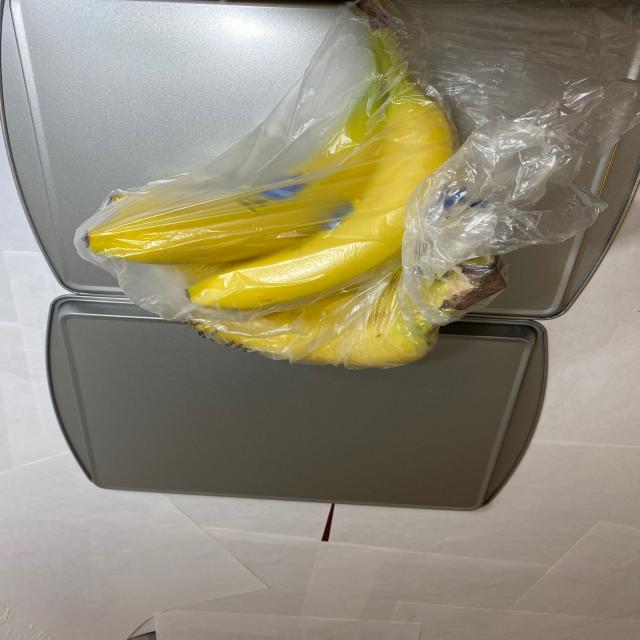banana: (77, 4, 508, 376)
